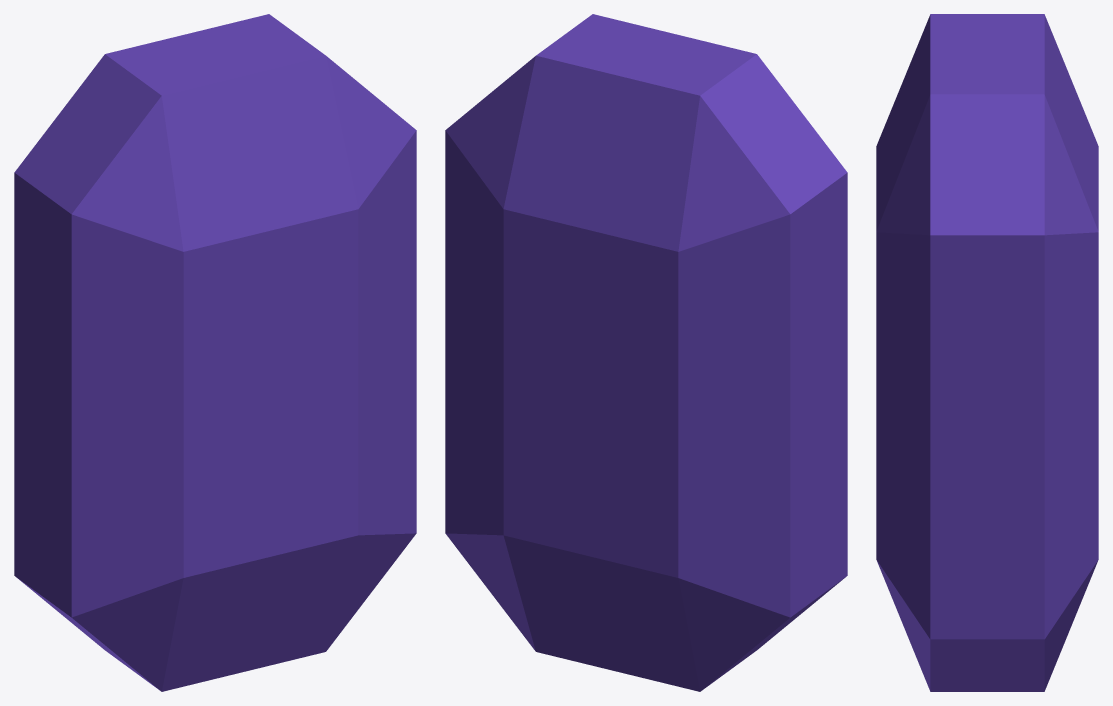
Rendered from Crystal1.glb.
The picture shows the model from 3 angles, left to right: view 1: azimuth 30°, elevation 25°; view 2: azimuth 150°, elevation 25°; view 3: azimuth 270°, elevation 25°; orthographic projection.
Visible parts, largest first — view 1: Crystal1; view 2: Crystal1; view 3: Crystal1.
Part boxes in pixels (x1=…): Crystal1: x1=14, y1=14, x2=416, y2=691; Crystal1: x1=445, y1=14, x2=847, y2=691; Crystal1: x1=876, y1=14, x2=1098, y2=691.
Bounding box in the file's own units: 0.1832 × 0.3025 × 0.1021.
